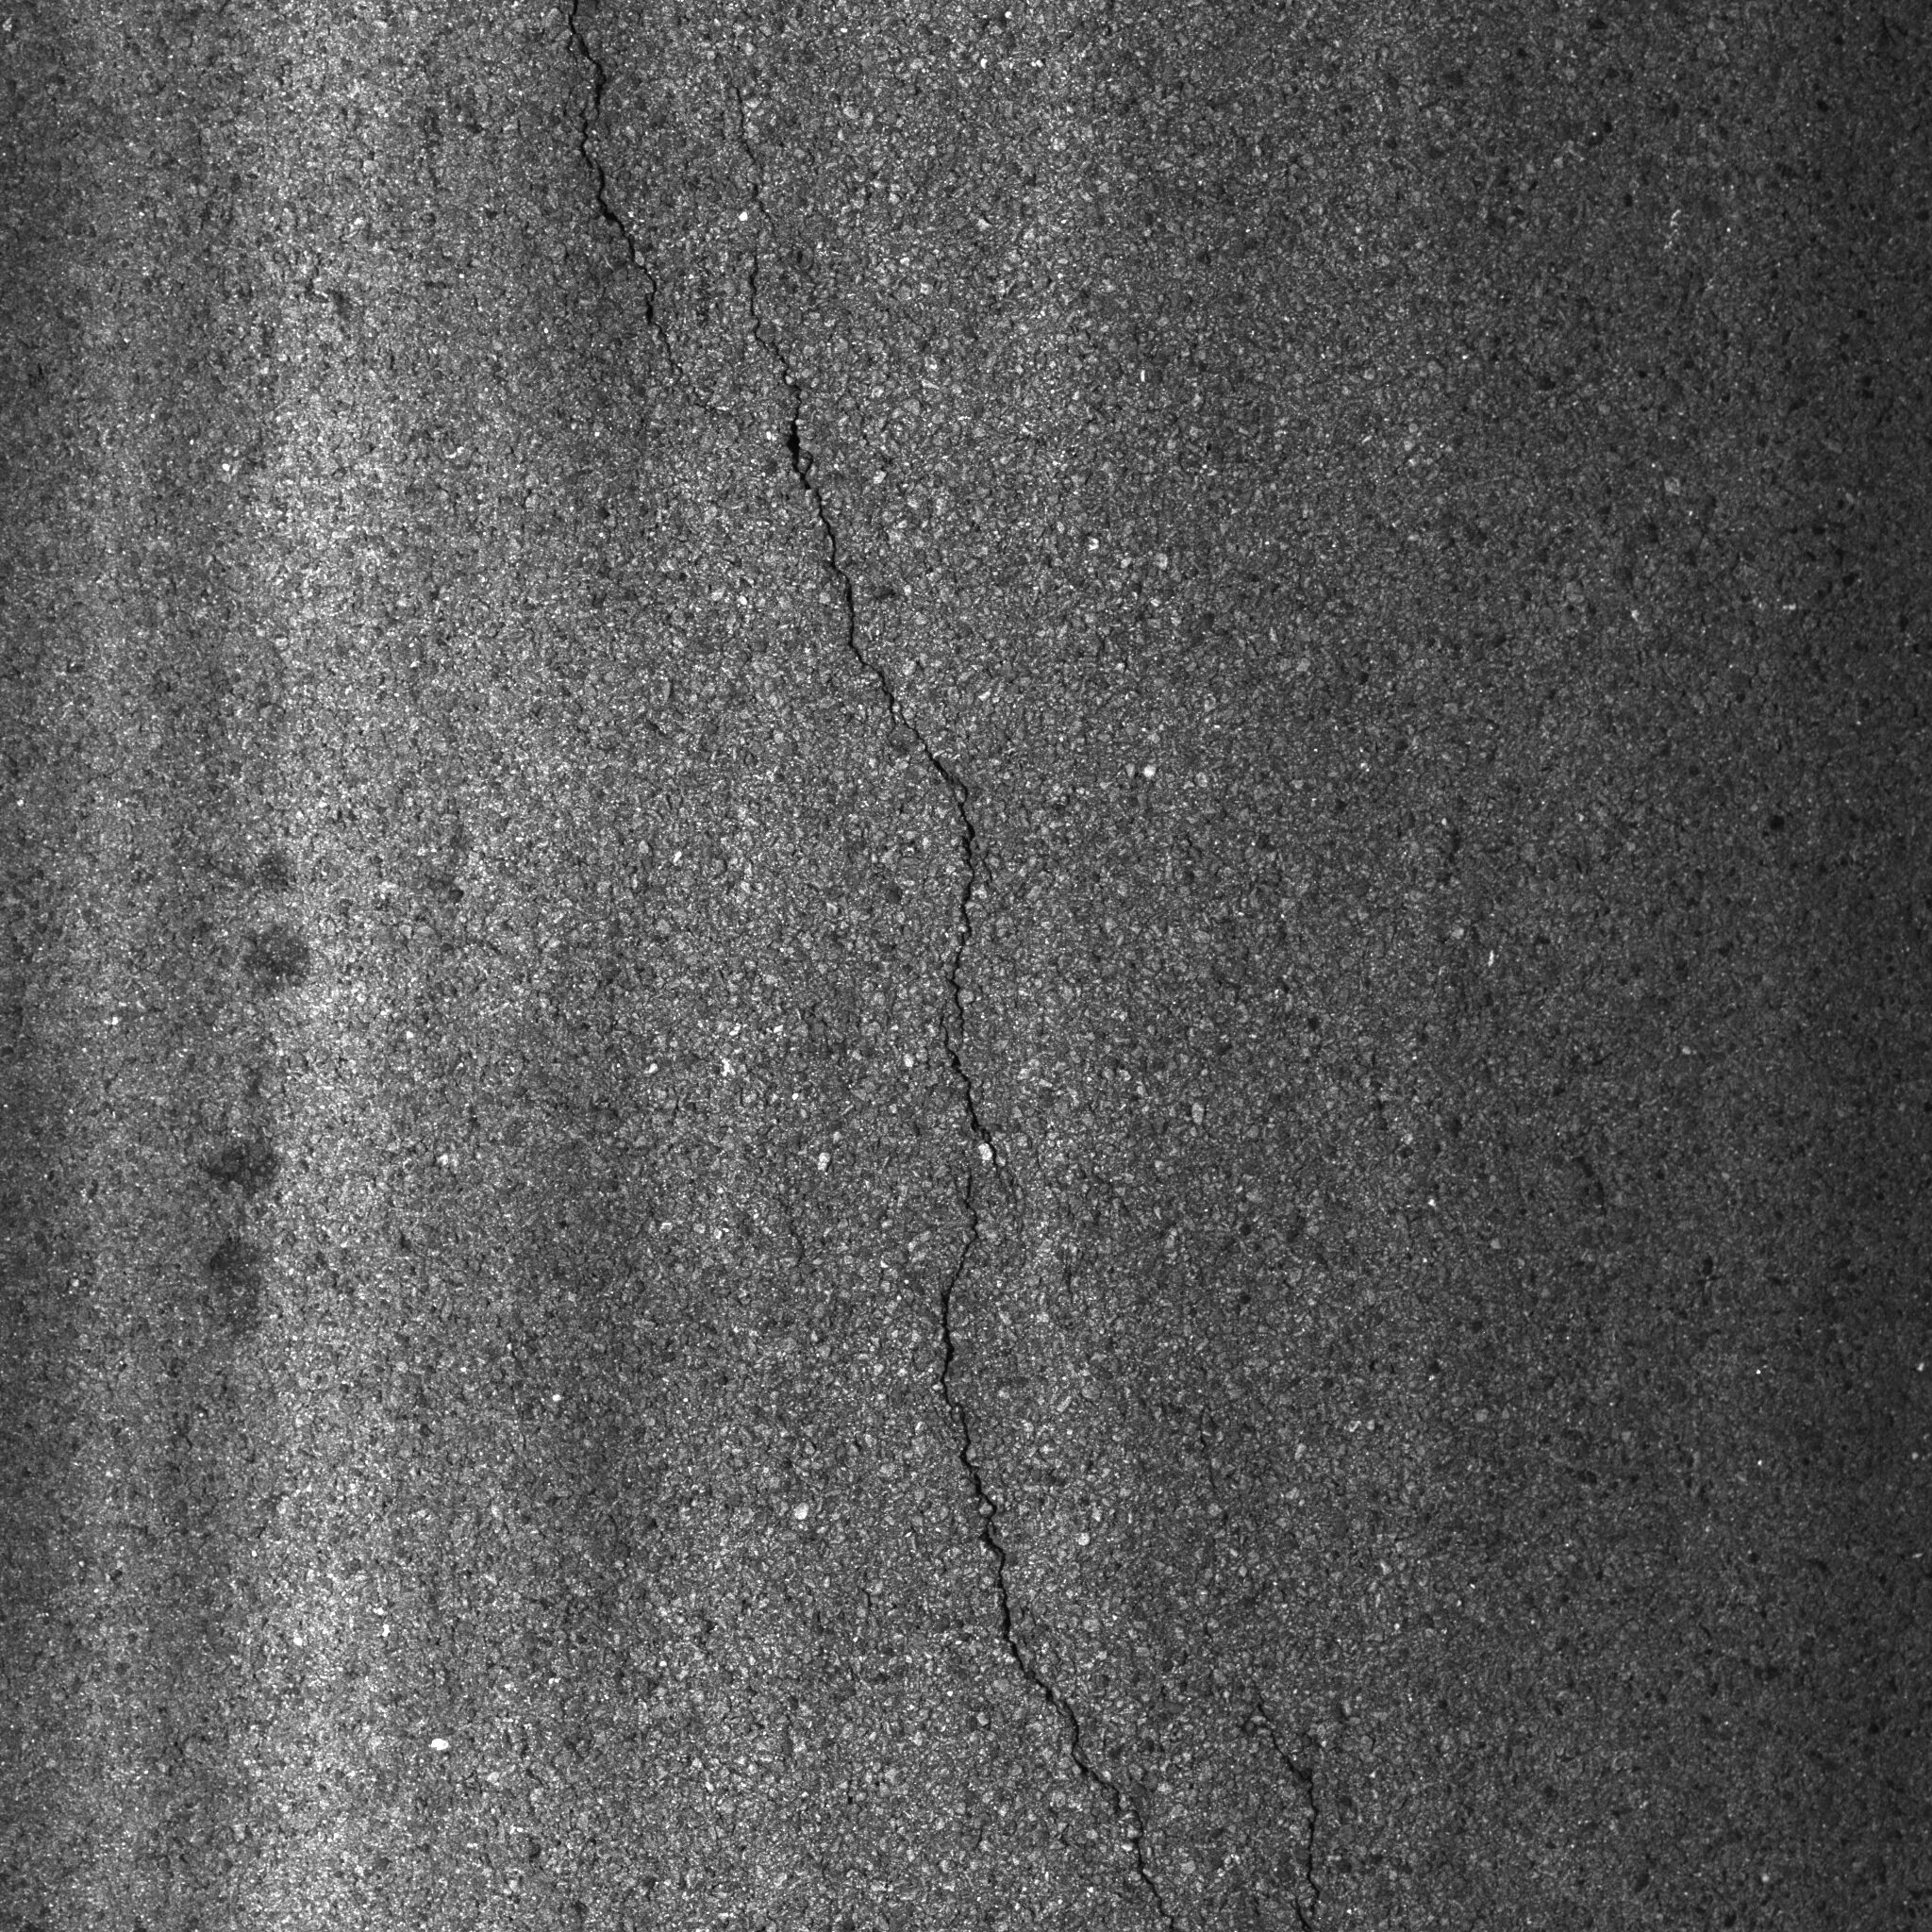longitudinal: (745, 207, 1350, 1925), (522, 4, 729, 444)
